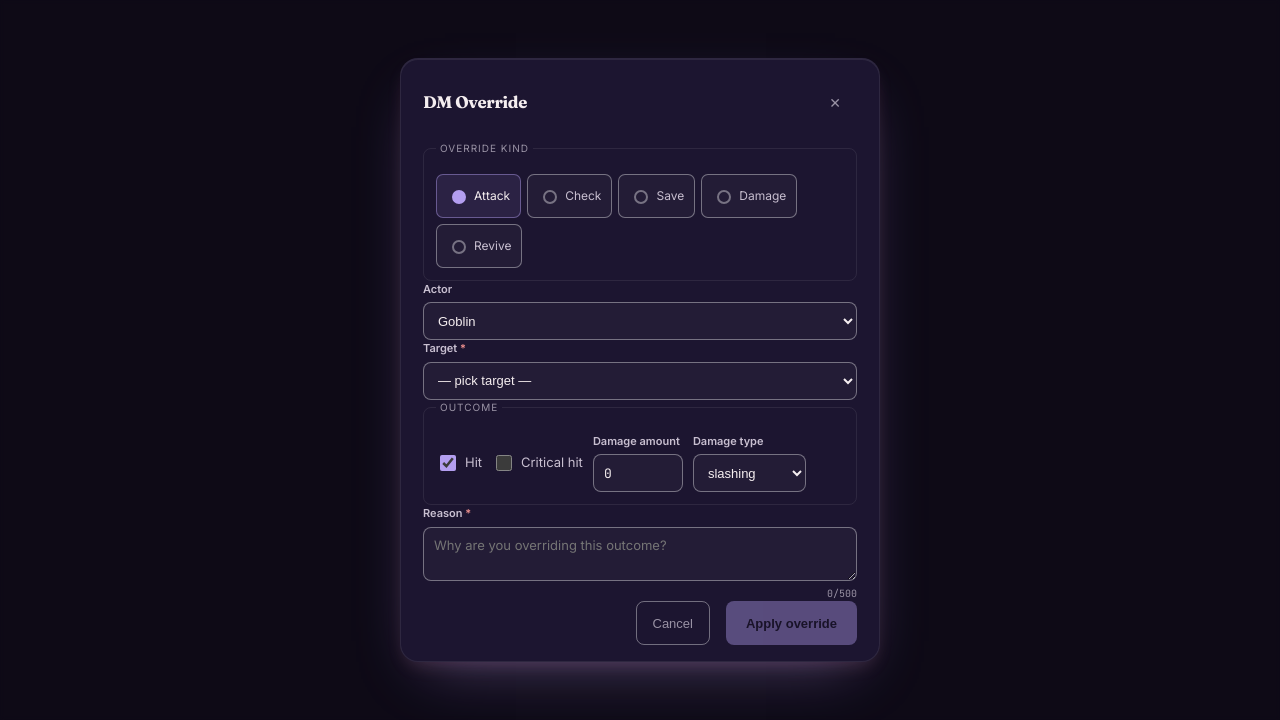
Scenario: after the confirm is cancelled, Apply asks again (no sticky "confirmed" state)
This screenshot has width=1280, height=720.
Click the radio button labelled "Damage". click: [724, 197]
box: [717,190,731,204]
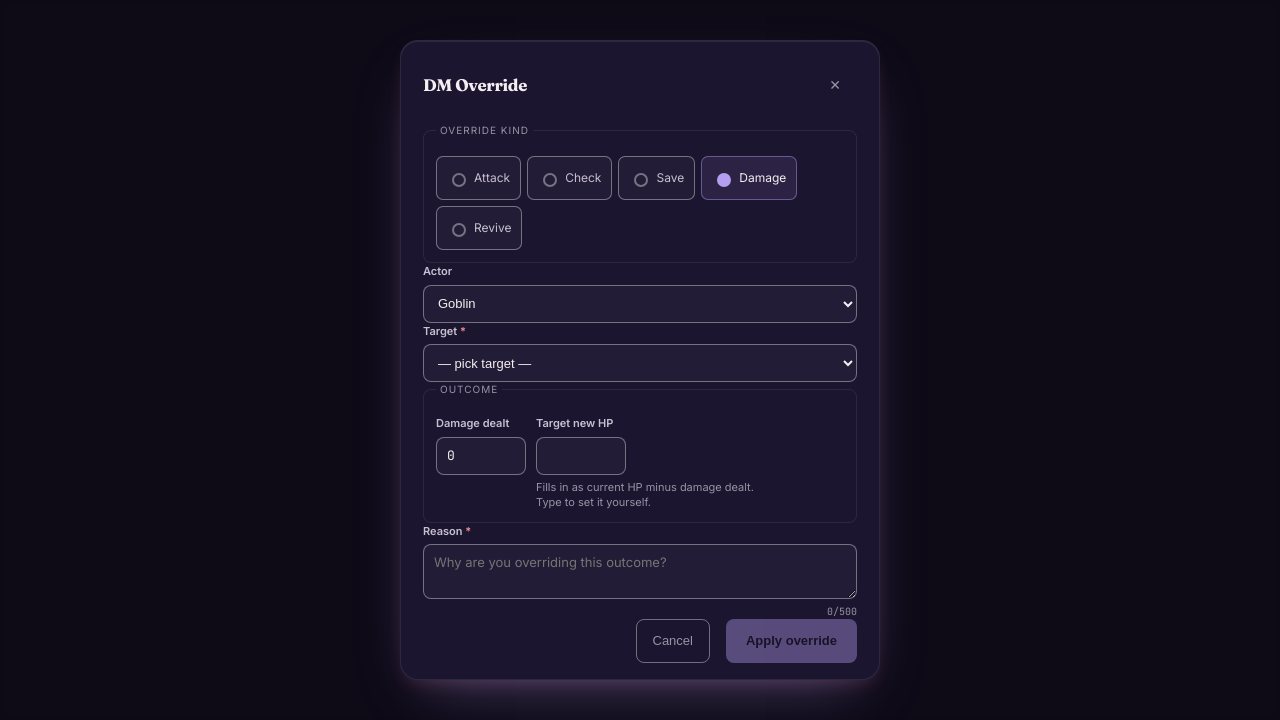
Select "Kaelen (HP 20/30)" in the dropdown labelled "Target *". click: [640, 364]
box: [423,344,857,382]
Type "ruling" into the text box labelled "Reason *". click: [640, 571]
box: [423,544,857,599]
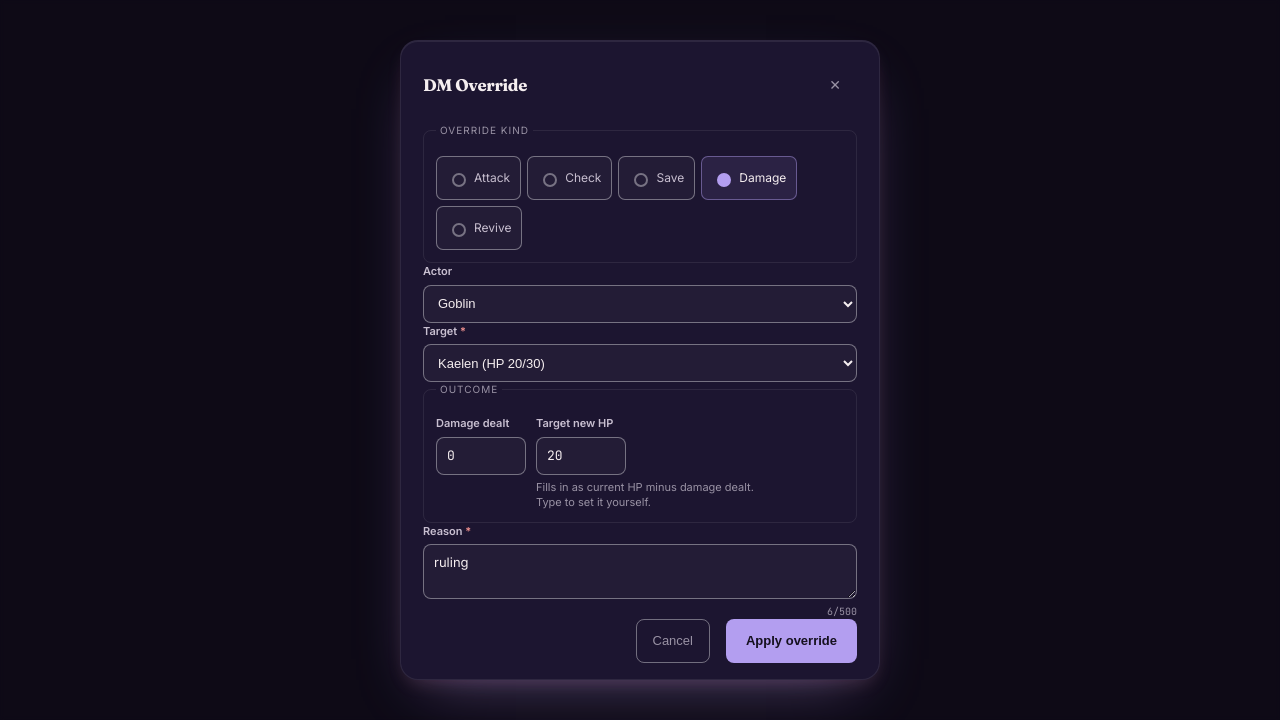
Replace the text in the number field labelled "Target new HP" with "0". click: [581, 456]
box: [536,437,626,475]
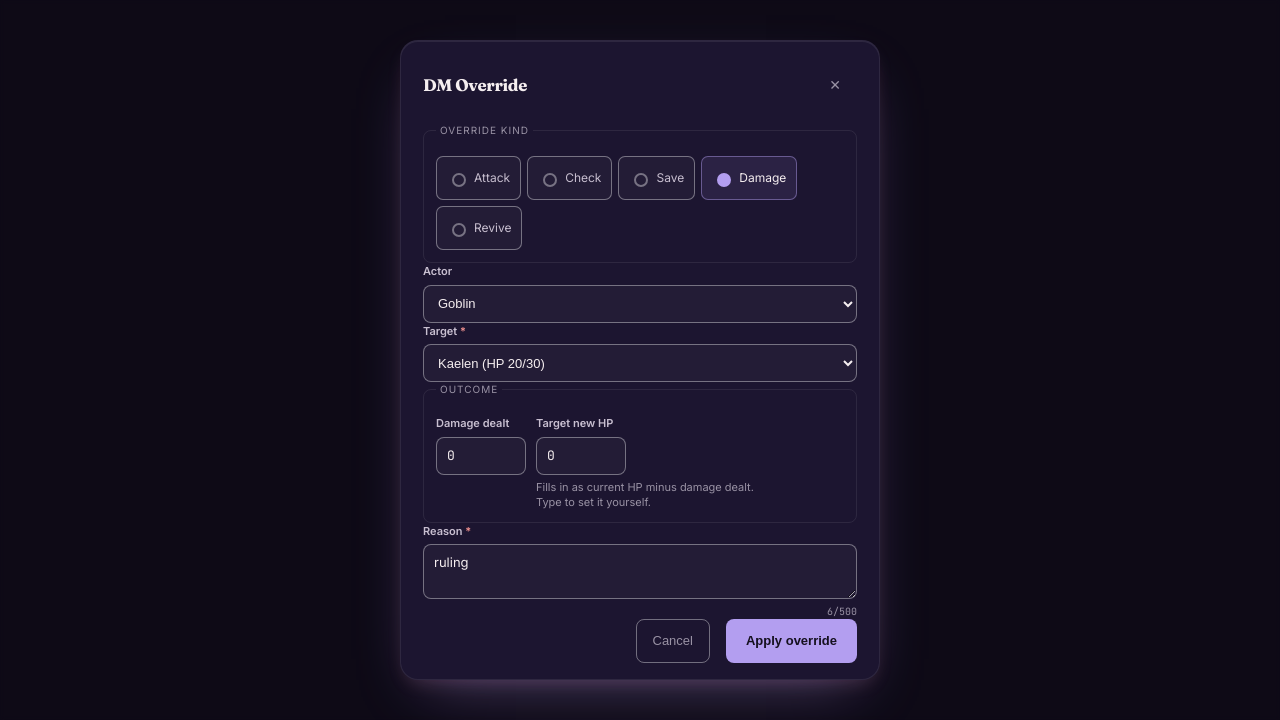
Click the button "Apply override". click: [792, 640]
box: [726,618,857,662]
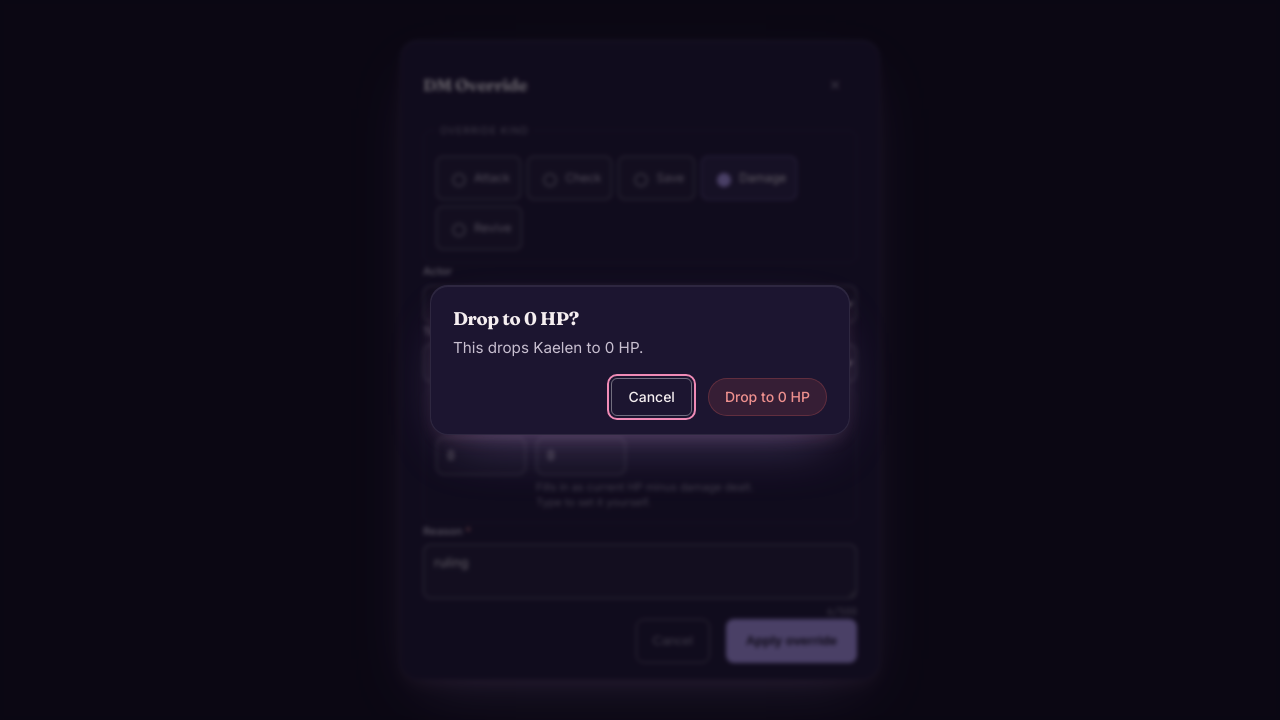
Click the button "Cancel". click: [652, 397]
box: [611,378,692,416]
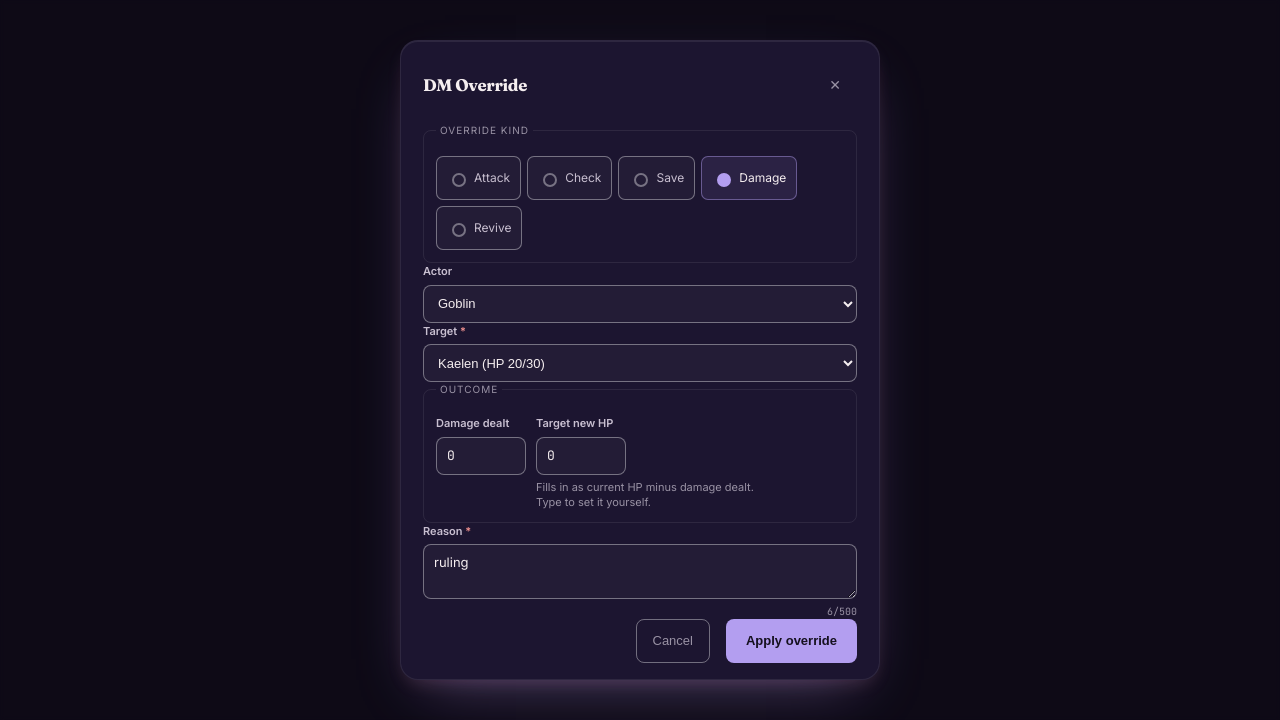
Click the button "Apply override". click: [792, 640]
box: [726,618,857,662]
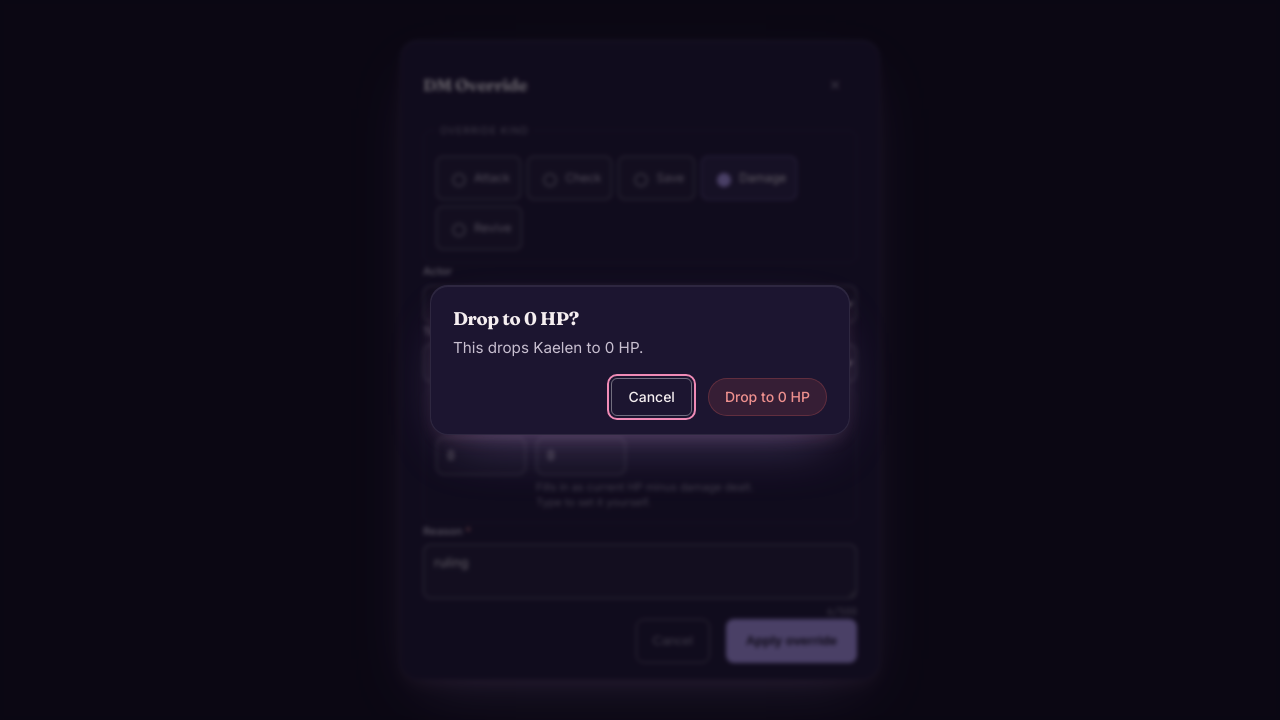
Expected: the dialog is shown, [430,285,850,435]
